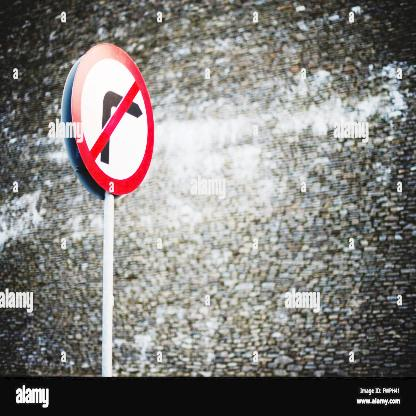No right turn: (75, 39, 156, 200)
